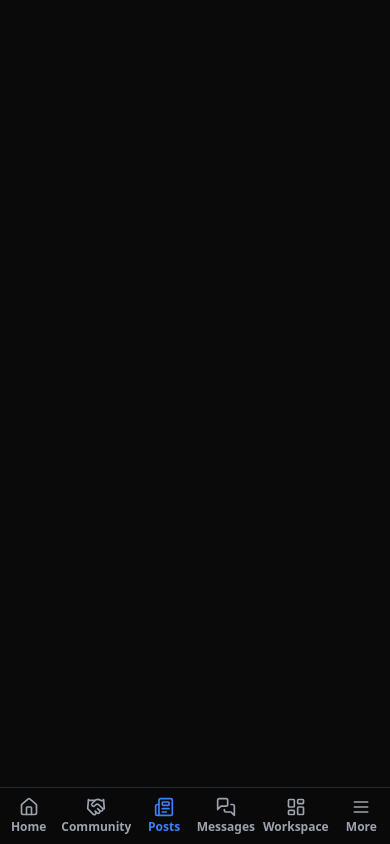
Test: MobileNav — navigation must exist below lg › shows no admin surface — to anyone, including a platform admin
Step 1. Click the button "More" → {"x": 361, "y": 816}, box [333, 788, 389, 843]
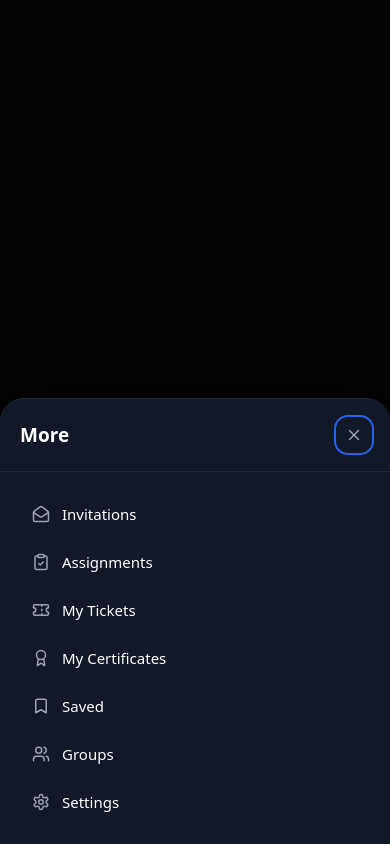
Expected: the dialog "More" is shown, [0, 398, 389, 843]
